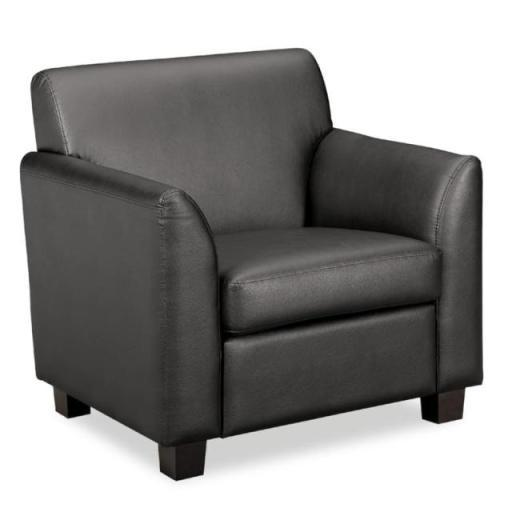sofa: (2, 26, 500, 484)
